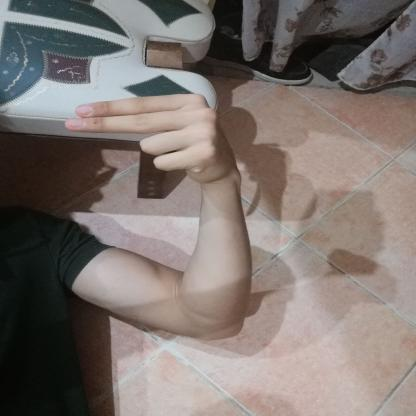AYN: (52, 80, 251, 193)
